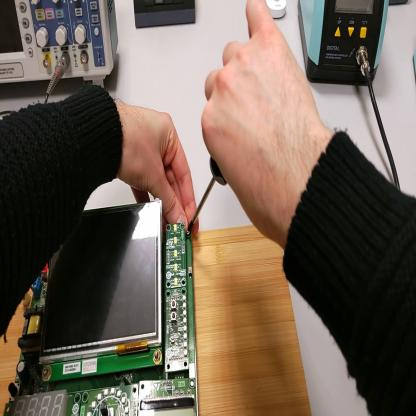hand: (202, 3, 321, 264), (114, 100, 201, 240)
low voltage board: (4, 198, 200, 414)
oscilloscope: (1, 2, 119, 93)
socket: (389, 1, 409, 7)
welder station: (299, 2, 390, 85)
working area: (2, 224, 313, 414)
